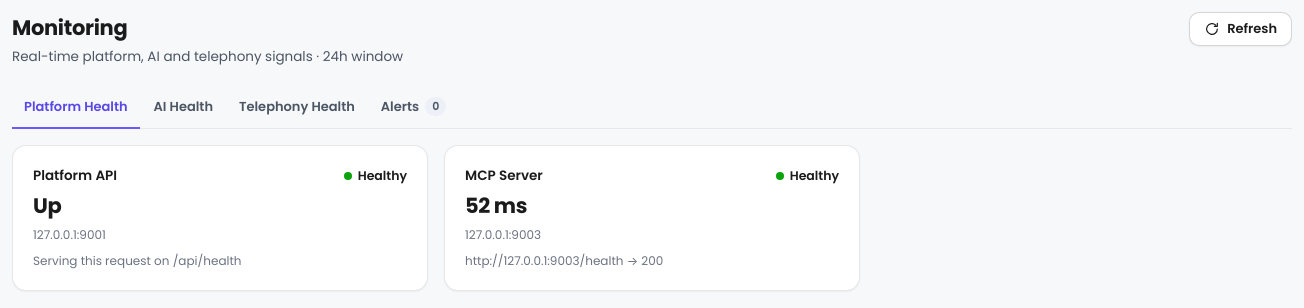
Test: Monitoring — Platform Health › groups services by the tab id the backend sends, not by name
Expected: the text "Platform API" is shown, x1=33 y1=166 x2=117 y2=186
Expected: the text "MCP Server" is shown, x1=465 y1=166 x2=543 y2=186
Click the tab "Telephony Health": (297, 108) x1=227 y1=87 x2=367 y2=129
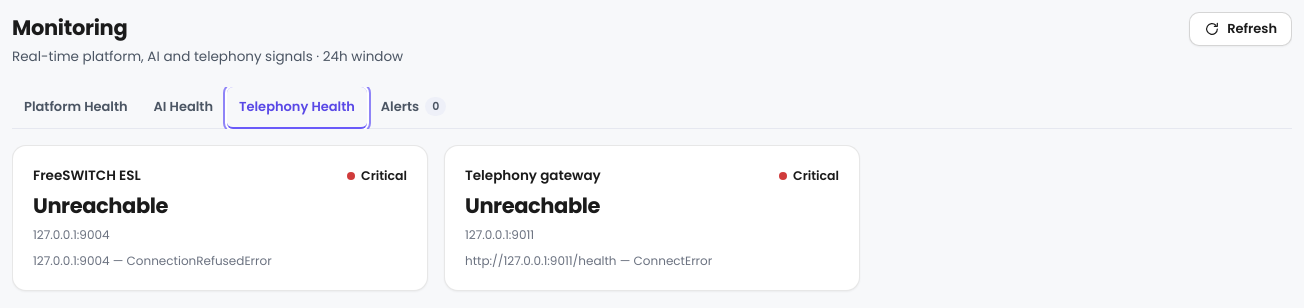
Result: the text "FreeSWITCH ESL" is shown at x1=33 y1=166 x2=141 y2=186
Result: the text "Telephony gateway" is shown at x1=465 y1=166 x2=601 y2=186
Result: the text "MCP Server" is gone
Click the tab "AI Health": (183, 108) x1=142 y1=87 x2=225 y2=129
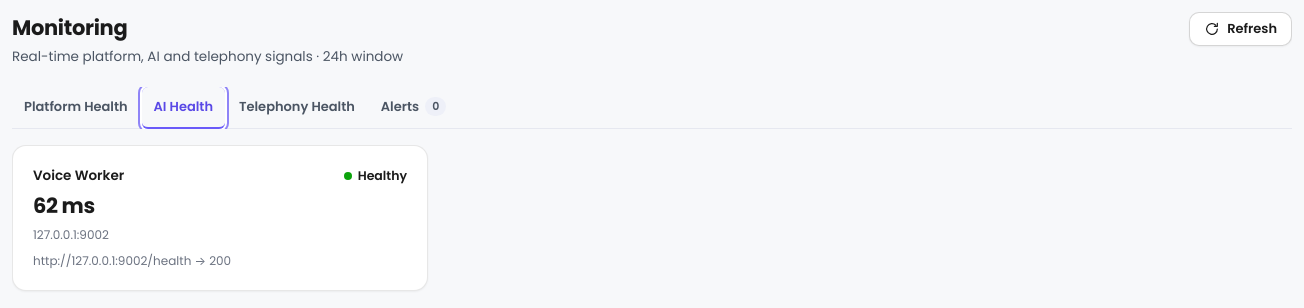
Result: the text "Voice Worker" is shown at x1=33 y1=166 x2=124 y2=186
